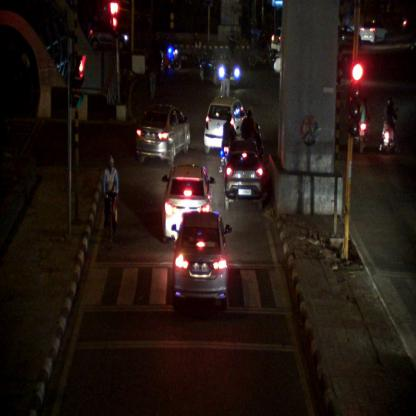car: (172, 212, 231, 310), (162, 165, 215, 243), (135, 104, 190, 163), (225, 142, 263, 212), (203, 95, 244, 154), (200, 48, 242, 88), (361, 17, 388, 45)
motorcycle: (381, 99, 399, 156), (356, 96, 370, 157)
